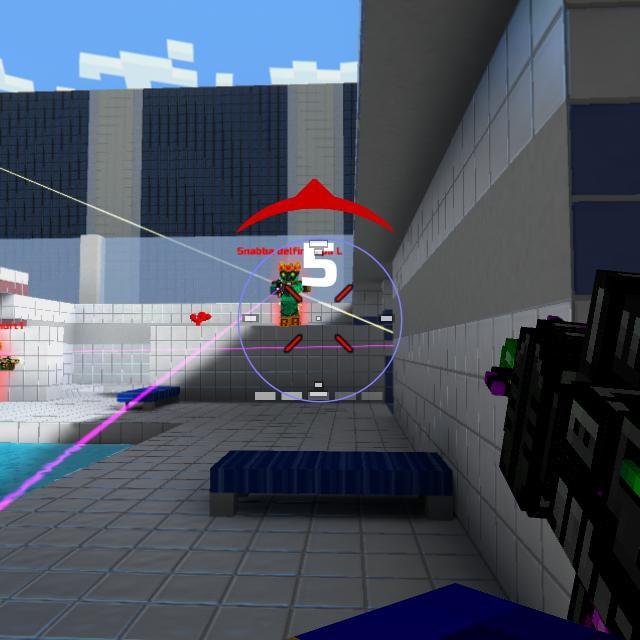Enemy: (270, 261, 311, 327), (0, 343, 15, 370)
